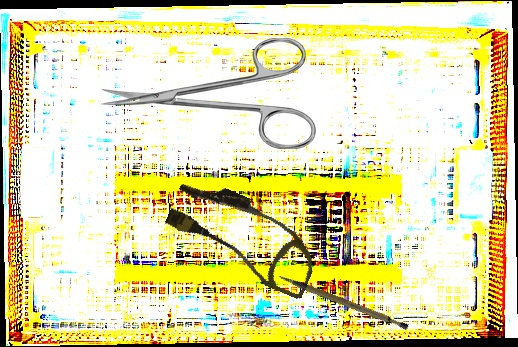Cannula: (157, 171, 330, 301)
Iris Scissors: (101, 38, 316, 149)
Scalpel Handle: (277, 254, 411, 347)
